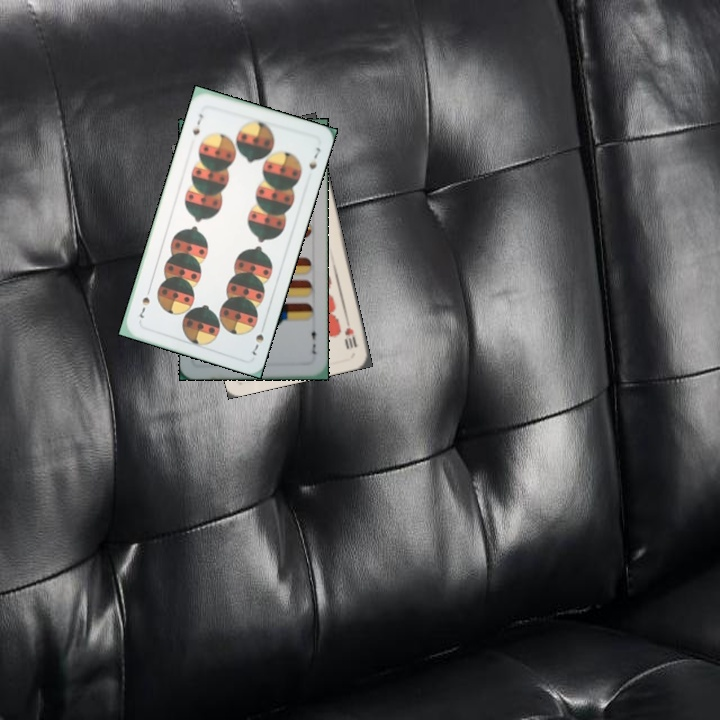E7: (307, 322, 319, 356)
H10: (341, 323, 360, 352)
S7: (248, 320, 268, 358), (189, 109, 206, 138)
